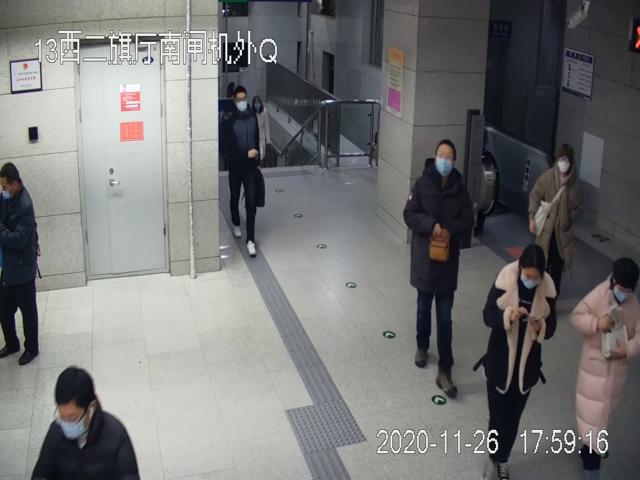person: (474, 244, 557, 480), (403, 139, 475, 397), (571, 257, 639, 480), (529, 144, 579, 340), (1, 161, 41, 366), (224, 85, 265, 256)
